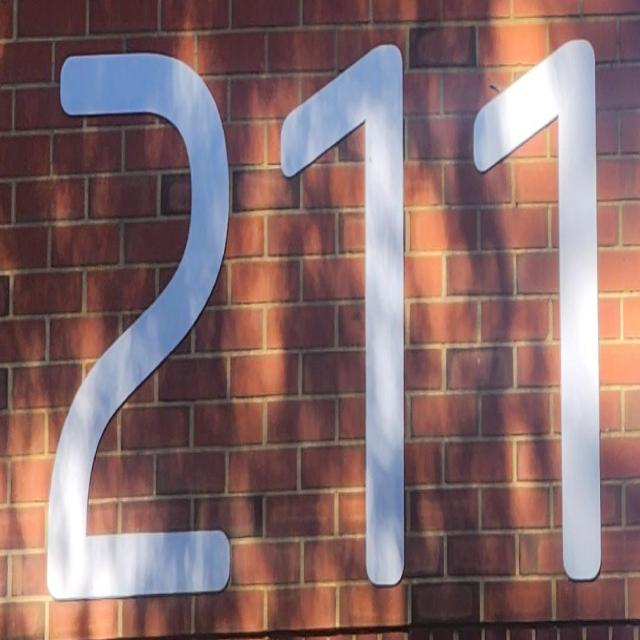character: (44, 47, 234, 607), (278, 35, 413, 592), (471, 30, 606, 587)
